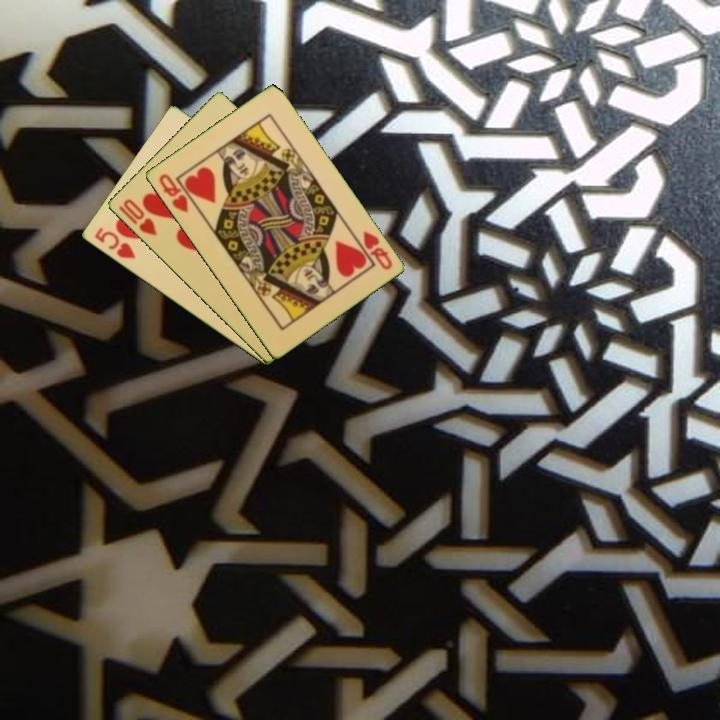10h: (115, 195, 159, 239)
5h: (90, 224, 138, 262)
Qh: (155, 170, 191, 216), (359, 227, 395, 273)
